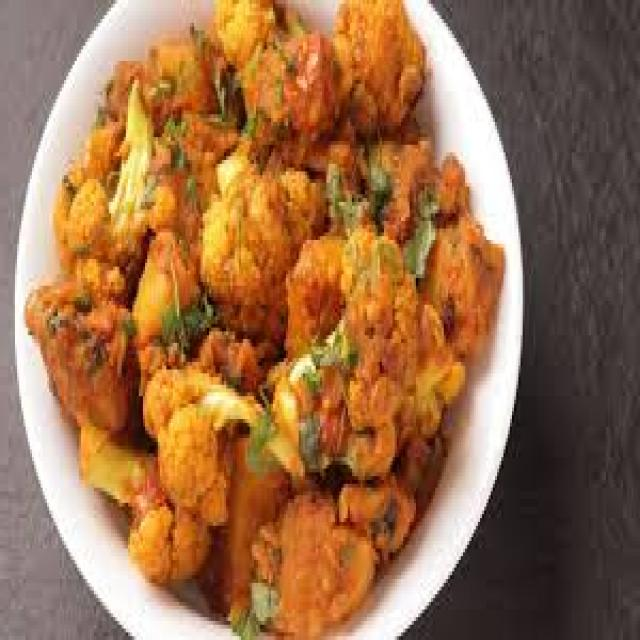Aloo Gobi: (124, 0, 503, 610)
